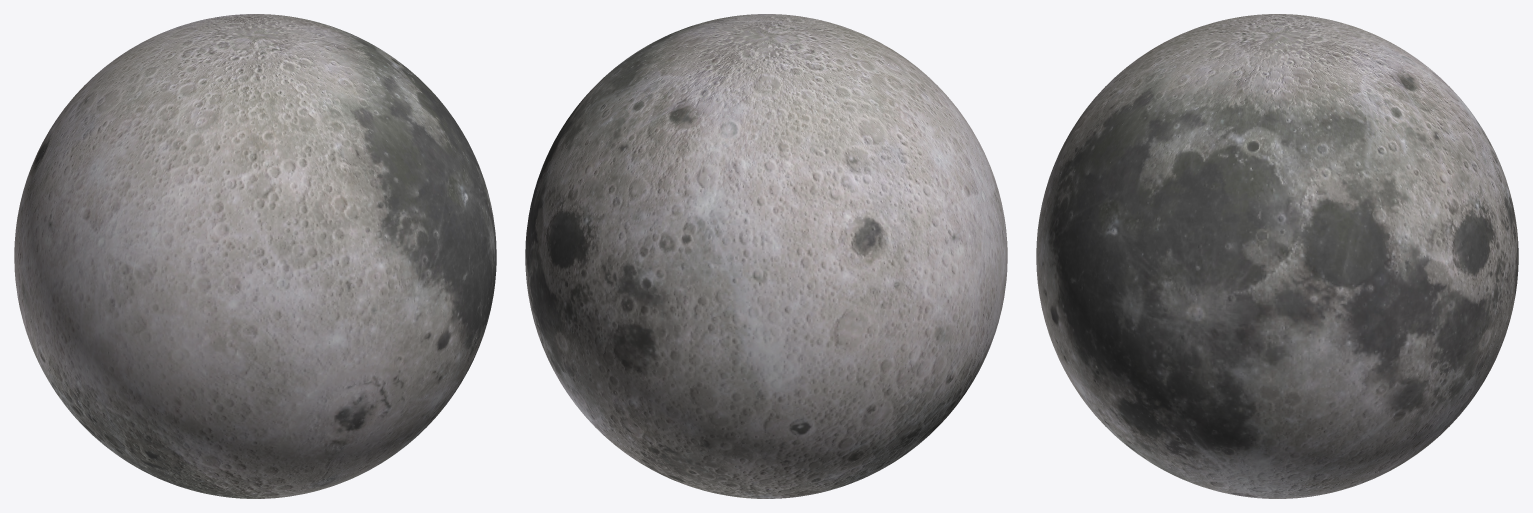
The model's file is moon.obj.
3 renders of one model, left to right at view 1: azimuth 30°, elevation 25°; view 2: azimuth 150°, elevation 25°; view 3: azimuth 270°, elevation 25°, orthographic.
Visible parts, largest first — view 1: Object_2; view 2: Object_2; view 3: Object_2.
Boxes of the visible parts, bbox=[...] form: Object_2: bbox=[14, 14, 496, 498]; Object_2: bbox=[525, 14, 1007, 498]; Object_2: bbox=[1036, 14, 1518, 498].
Size of the model in its own units: 1.97 by 2 by 1.97.
Materials: 1 (1 with a texture image).
